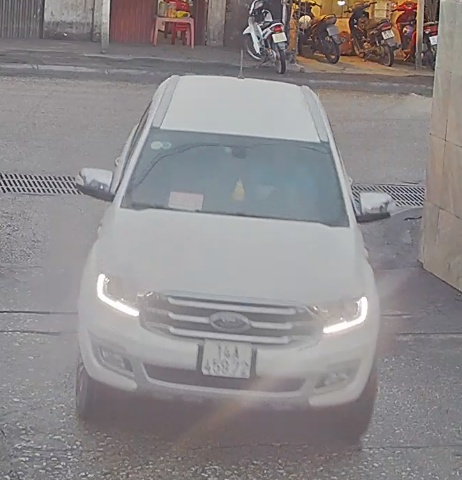vehicle plate: (196, 334, 253, 382)
